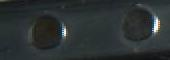joints: (118, 3, 160, 45), (25, 12, 68, 52)
